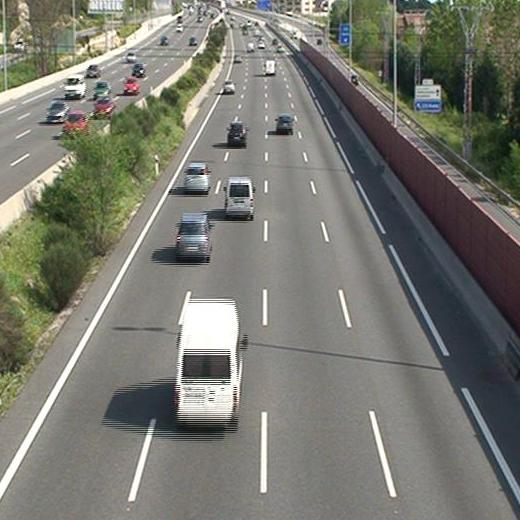car: (176, 211, 213, 258), (183, 161, 211, 192), (226, 122, 249, 146), (273, 113, 294, 133), (222, 80, 235, 94), (233, 53, 243, 64)
van: (175, 298, 247, 424), (223, 178, 256, 218), (263, 60, 276, 74)
